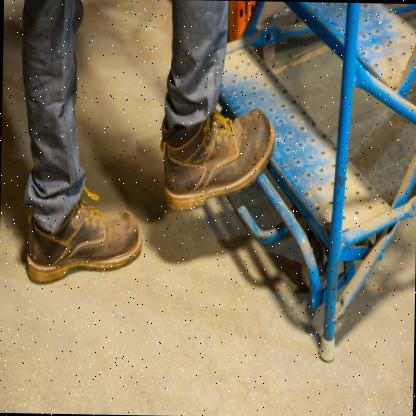bota: (161, 105, 277, 214), (25, 194, 144, 289)
